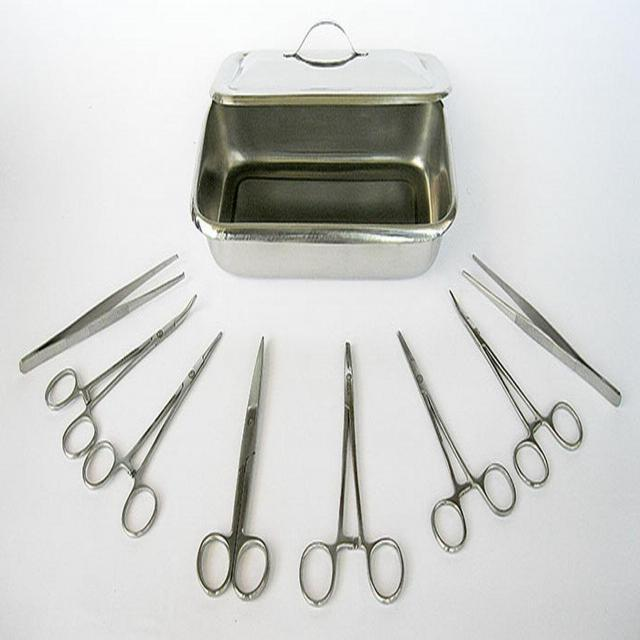Forceps: (458, 250, 624, 408), (18, 248, 186, 380)
Hemostat: (80, 326, 224, 540), (395, 328, 517, 558), (448, 285, 584, 490), (44, 290, 198, 462)
Mayo_metz: (194, 334, 270, 604)
